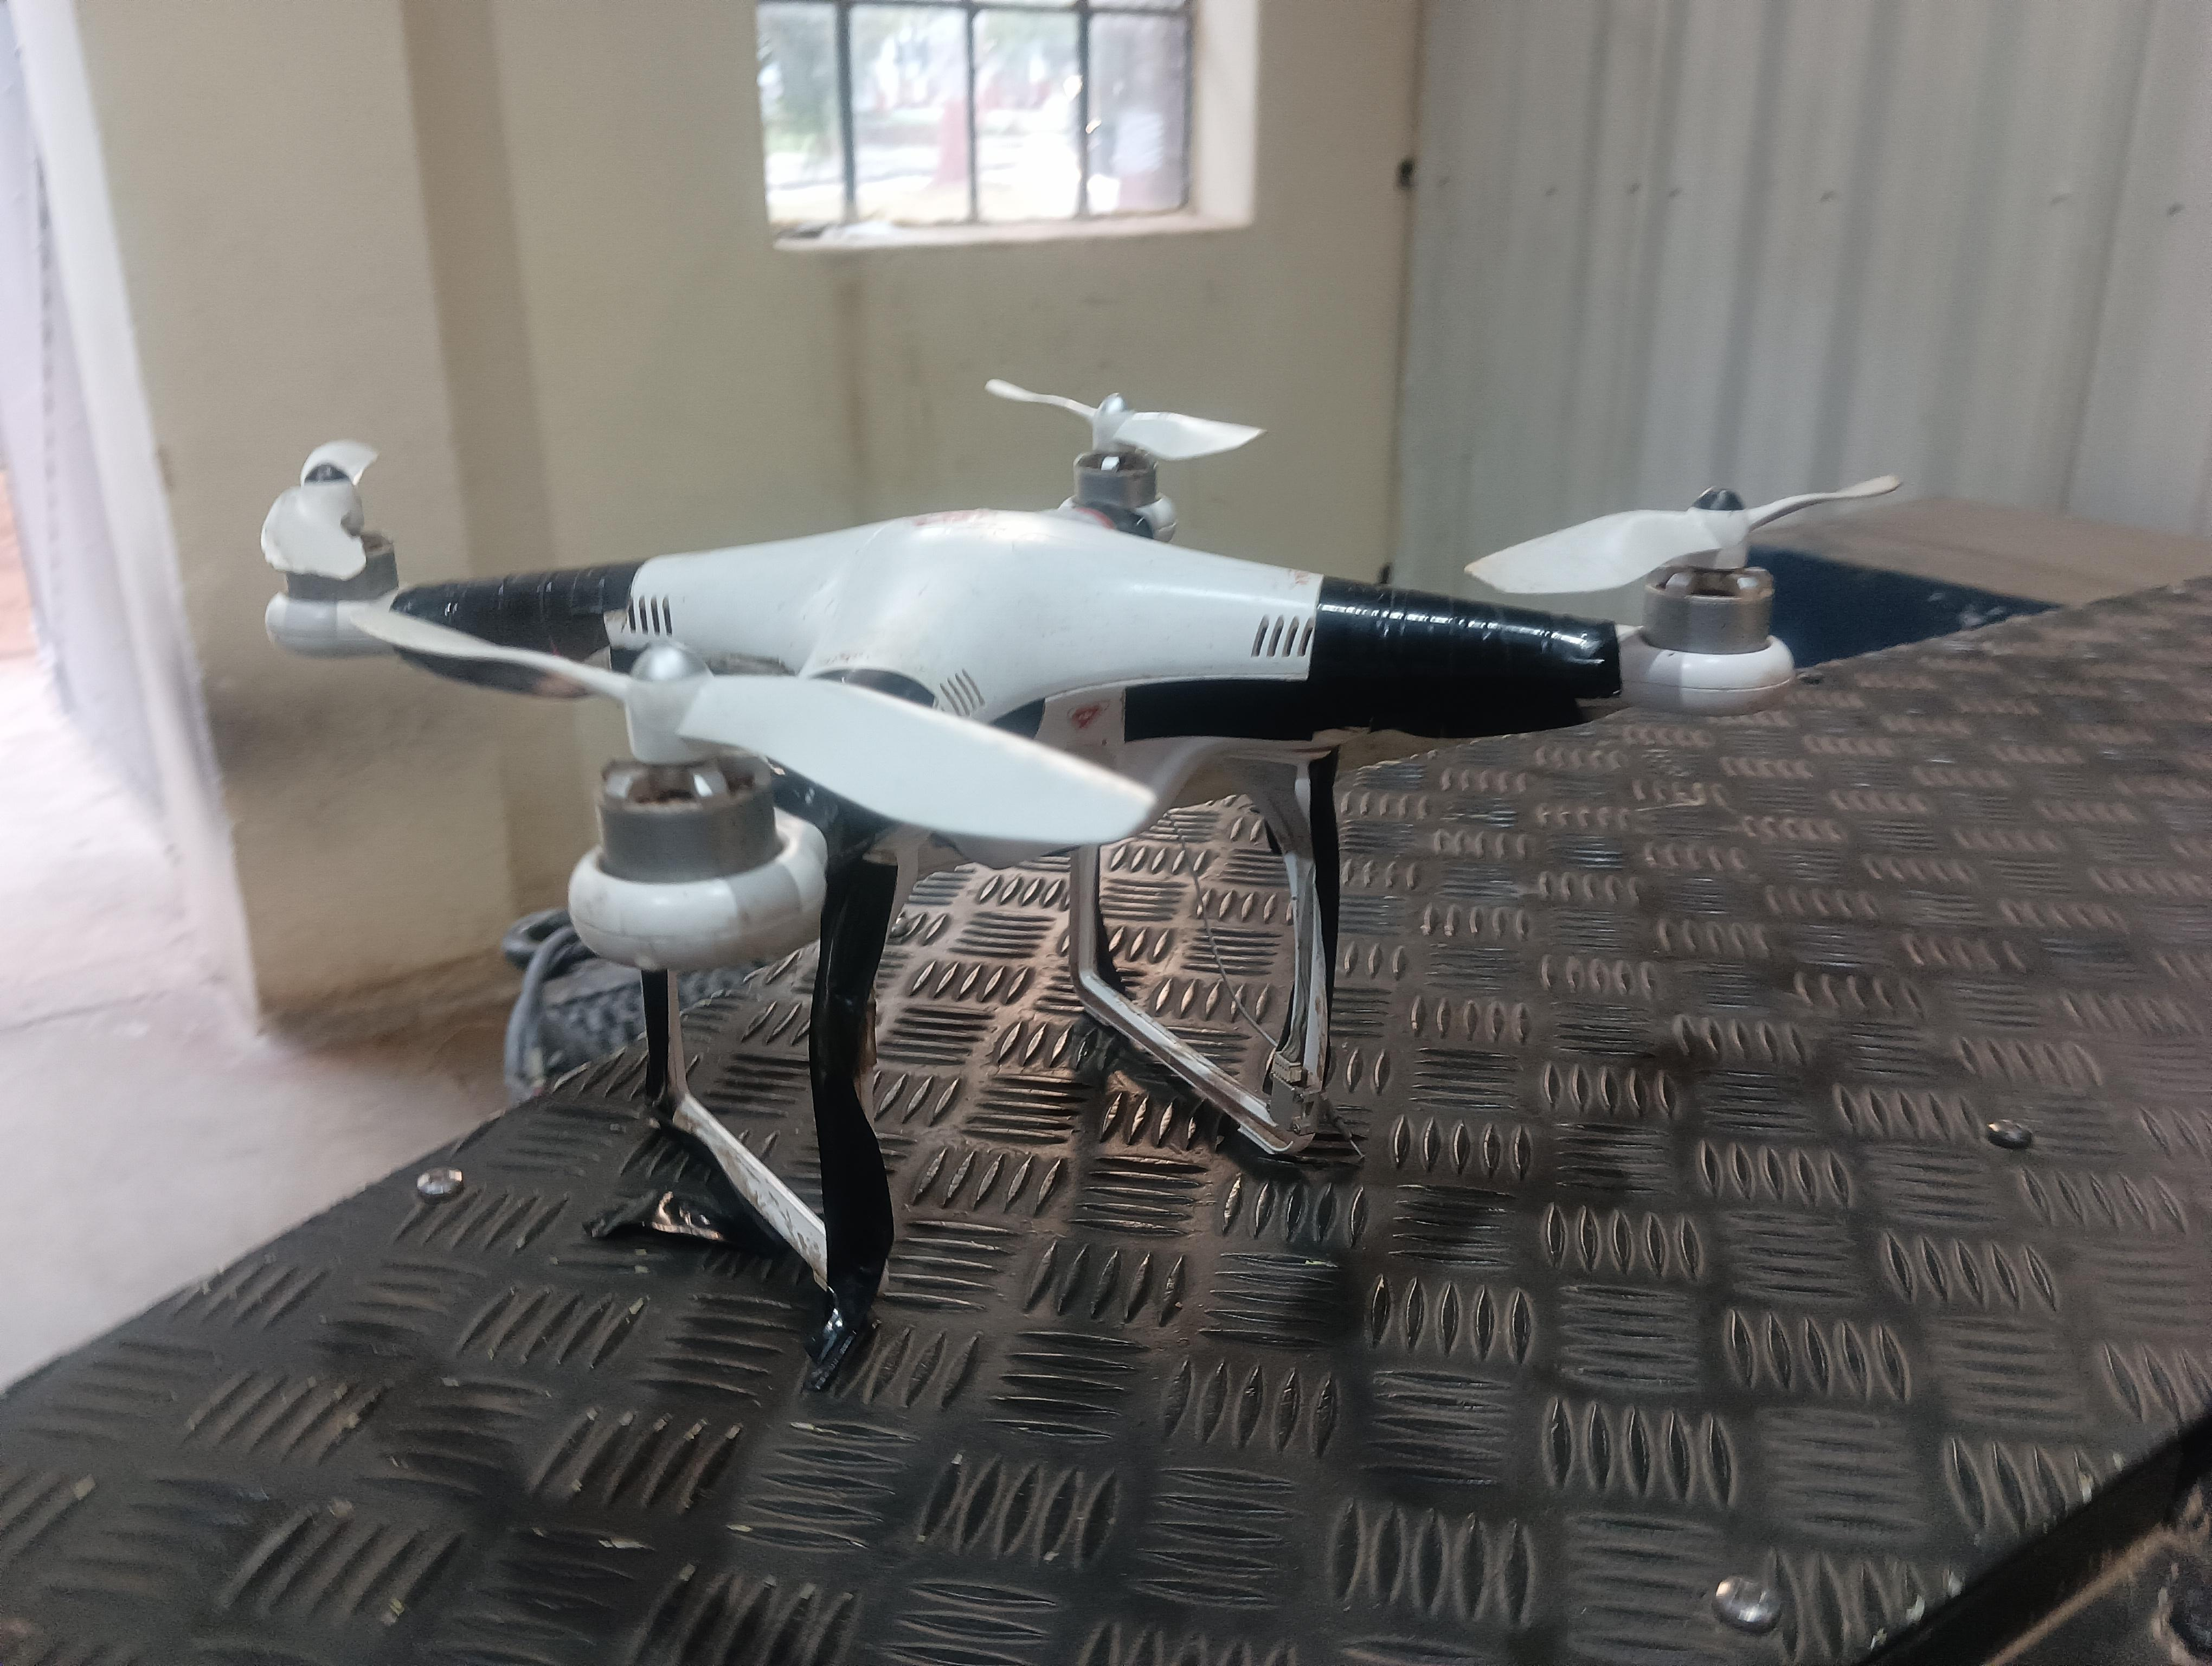drone: (164, 332, 1929, 1363)
